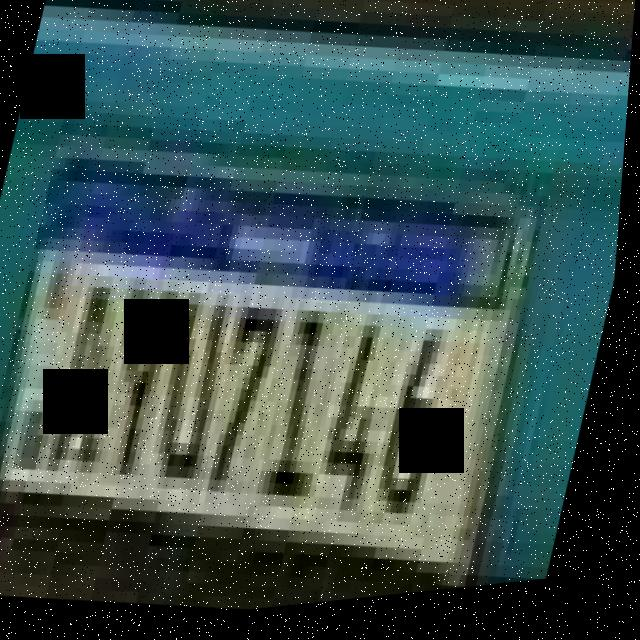4: (313, 311, 413, 529)
6: (371, 316, 472, 537)
7: (203, 297, 297, 504)
A: (40, 256, 146, 490)
I: (262, 304, 355, 520)
U: (148, 290, 250, 503)
V: (95, 279, 188, 492)
